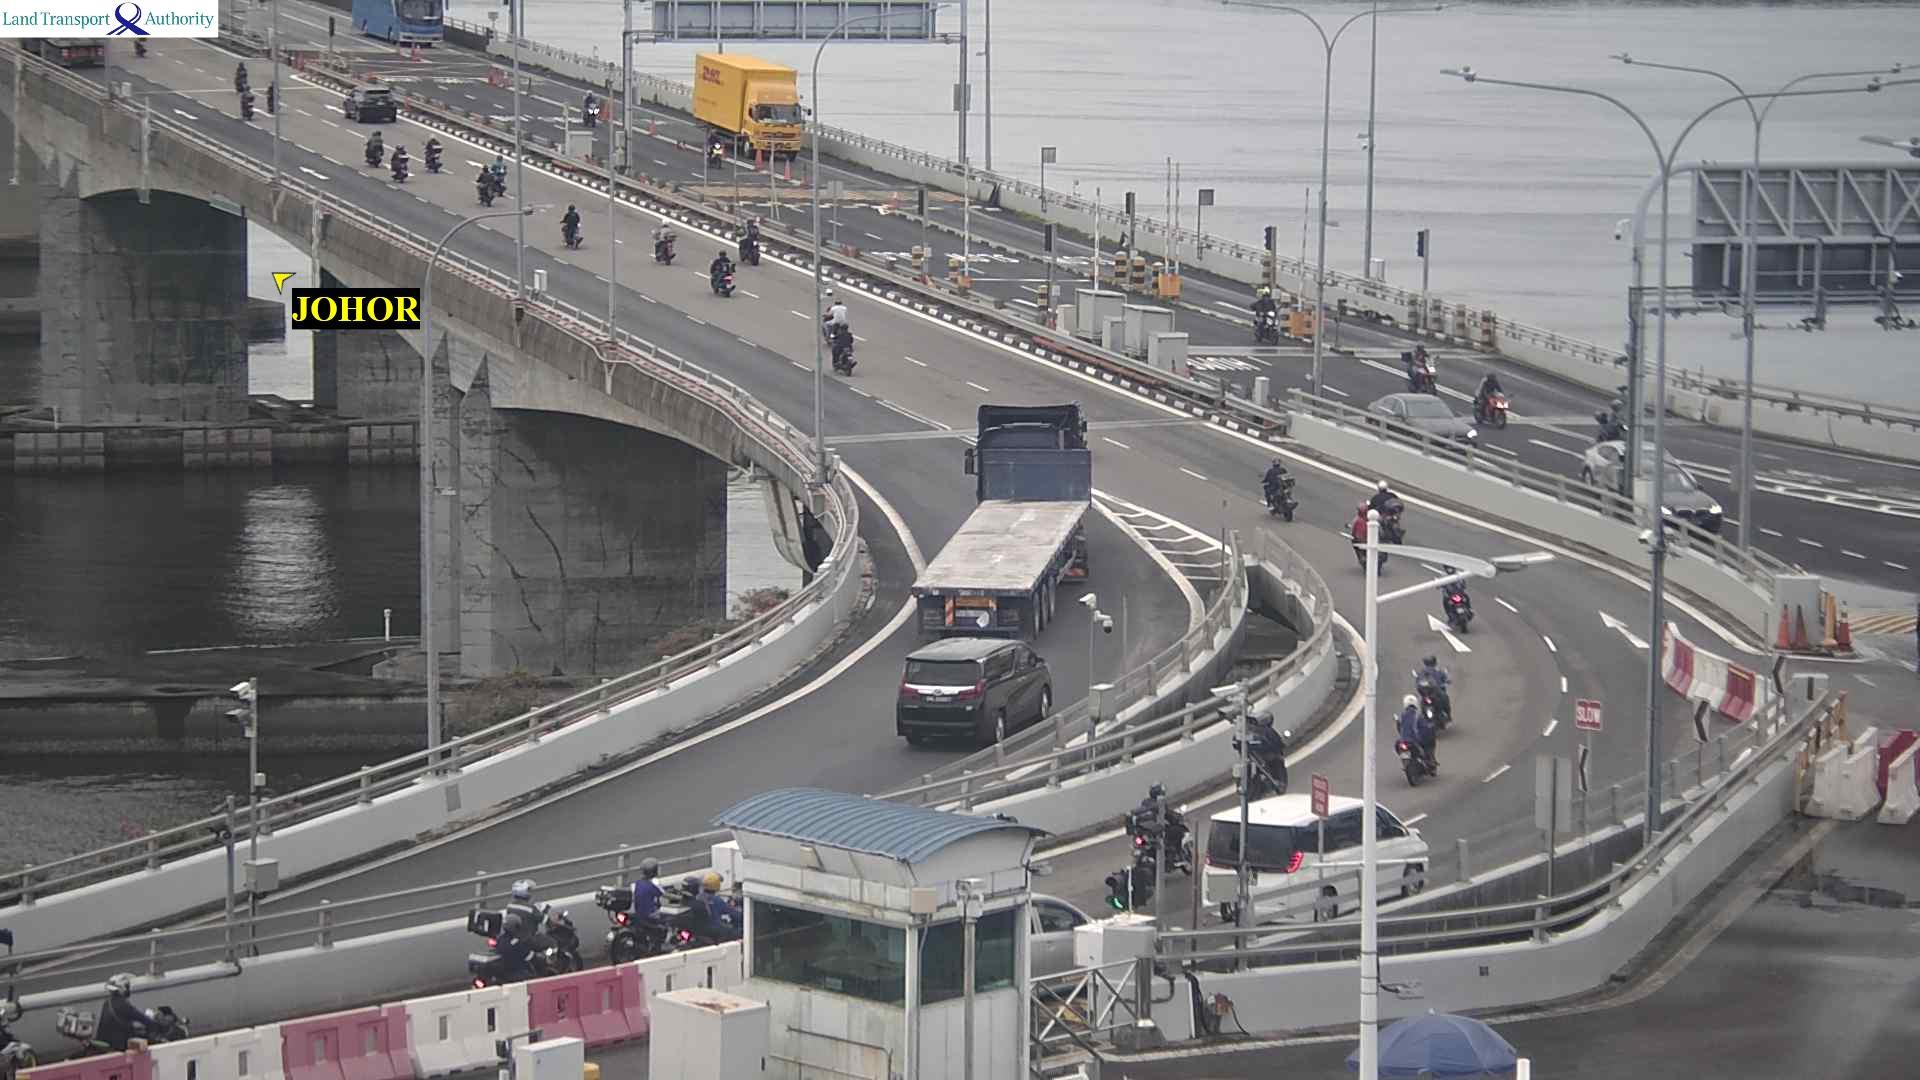vehicle-secondlink-johor: (918, 413, 1085, 644), (475, 877, 740, 984), (1205, 789, 1429, 910), (891, 637, 1042, 754), (55, 984, 183, 1069), (1118, 795, 1183, 886), (1230, 709, 1276, 777), (1352, 489, 1403, 547), (1406, 654, 1451, 719), (20, 38, 105, 70), (1259, 462, 1294, 517), (1445, 582, 1476, 632), (340, 87, 386, 119), (828, 313, 855, 363), (709, 251, 737, 294), (481, 164, 509, 202), (651, 228, 674, 264), (361, 132, 385, 162), (233, 58, 252, 92), (425, 144, 446, 173), (392, 146, 406, 174)
vehicle-secondlink-singapore: (690, 51, 796, 170), (1365, 394, 1481, 440), (352, 0, 452, 45), (1875, 290, 1920, 331), (1474, 378, 1510, 429), (1410, 348, 1447, 389), (1399, 345, 1435, 388)
